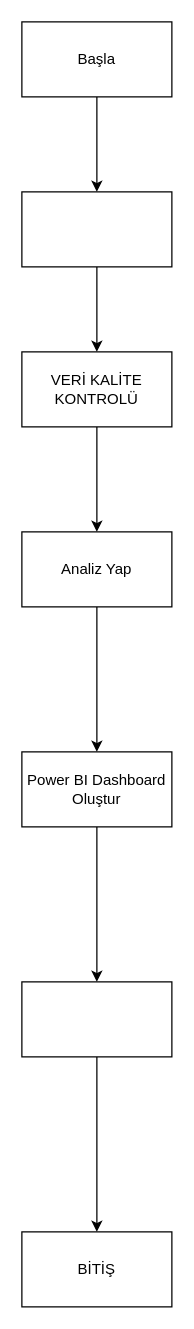
The diagram is 194 pixels wide and 1329 high, and some of its shapes have lost their labels. Each missing label, with the box of its shape:
HAM VERİYİ AL: (21, 191, 172, 267)
YÖNETİCİYE RAPOR SUN: (21, 981, 172, 1057)
